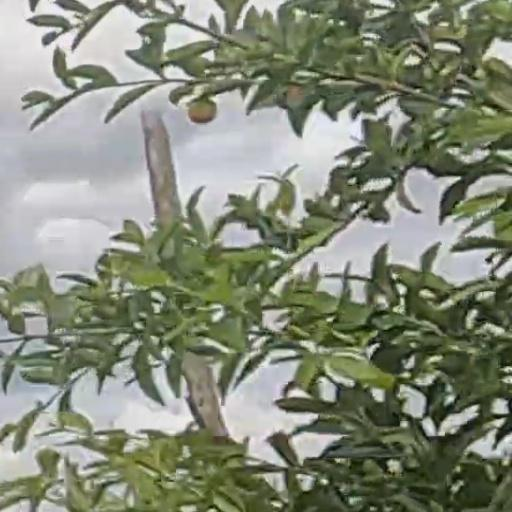acerola: (190, 101, 215, 122)
